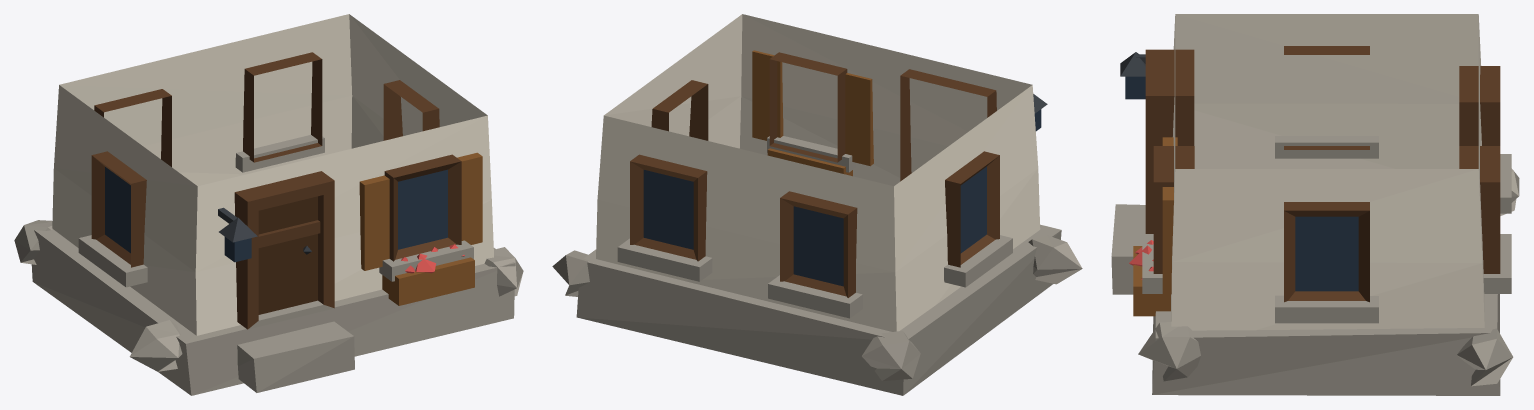
File: house_ground_a.glb
3 views of the same model, side by side, from view 1: azimuth 30°, elevation 25°; view 2: azimuth 150°, elevation 25°; view 3: azimuth 270°, elevation 25° (orthographic). The views are drawn at different scales.
Parts seen in each view (by area): view 1: house_ground_a; view 2: house_ground_a; view 3: house_ground_a.
Boxes of the visible parts, x1=… form: house_ground_a: x1=14, y1=14, x2=523, y2=395; house_ground_a: x1=552, y1=14, x2=1082, y2=395; house_ground_a: x1=1111, y1=14, x2=1519, y2=395.
Bounding box in the file's own units: 0.7944 × 0.38 × 0.6453.
